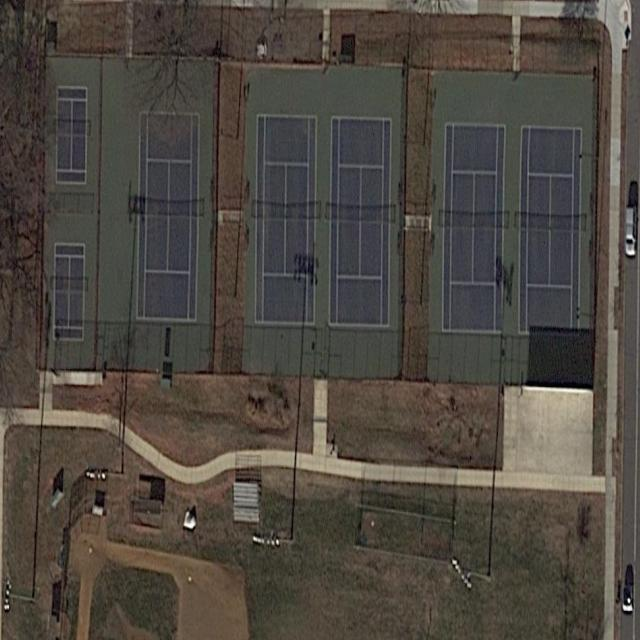small-vehicle: (624, 203, 638, 261), (621, 571, 635, 614)
